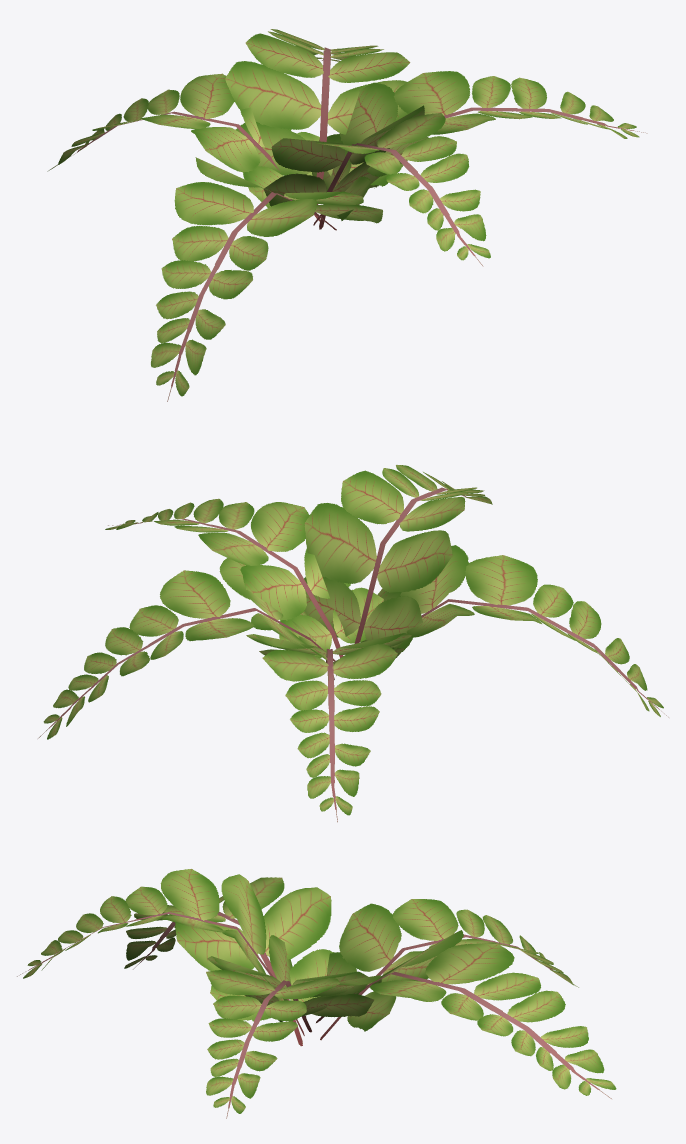
File: Pool2.FBX
The picture shows the model from 3 angles, top to bottom: view 1: azimuth 30°, elevation 25°; view 2: azimuth 150°, elevation 25°; view 3: azimuth 270°, elevation 25°; orthographic projection. The views are drawn at different scales.
Parts seen in each view (by area): view 1: Plane002; view 2: Plane002; view 3: Plane002.
Boxes of the visible parts, left/top/right/bottom form: Plane002: left=47, top=29, right=647, bottom=401; Plane002: left=38, top=465, right=668, bottom=822; Plane002: left=17, top=869, right=616, bottom=1118.
Size of the model in its own units: 2.17 by 0.7198 by 2.18.
